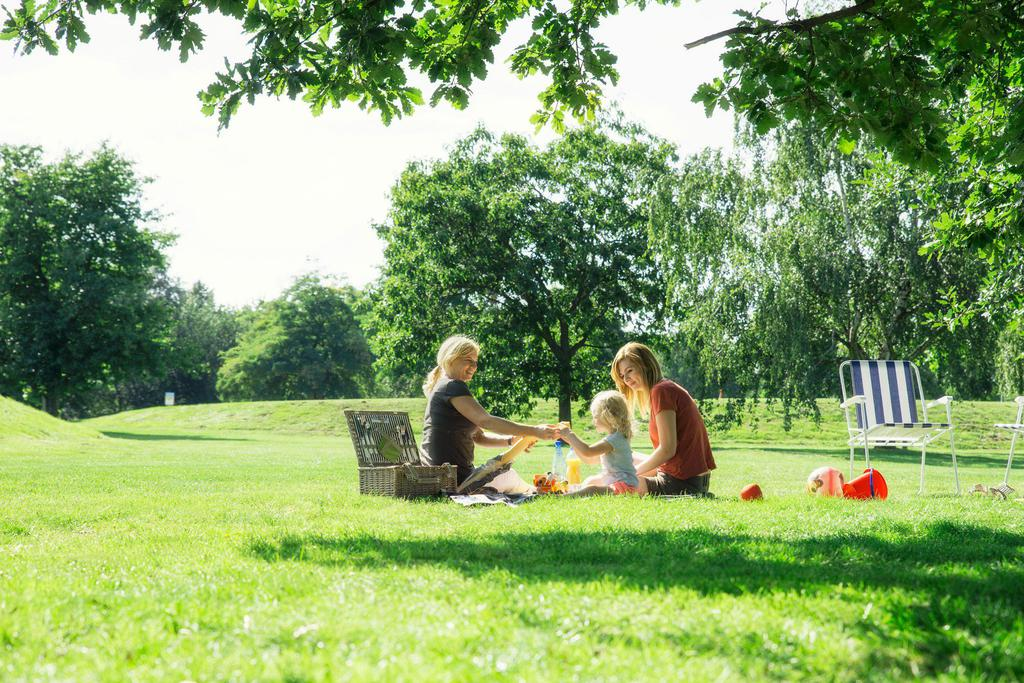child: (554, 389, 643, 499)
